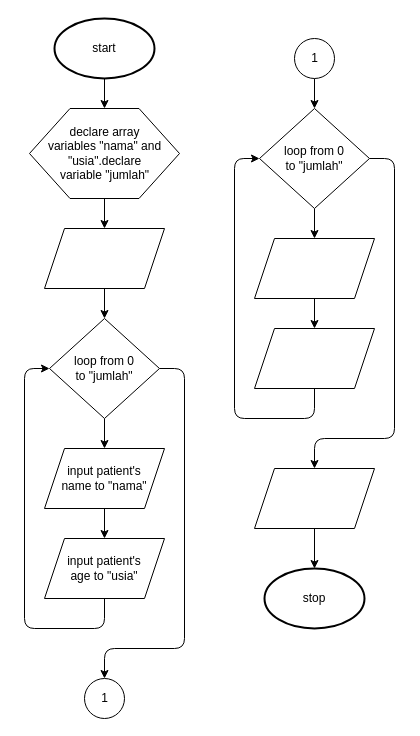
This 420x736 diagram has some shape labels left out. Here are the shapes that lost their labels. From the top down, the centre of each, then its label:
the point at 104,258: input patient count to "jumlah"
the point at 314,268: display "Nama Pasien : {nama[index]}"
the point at 314,358: display "Usia Pasien : {usia[index]}"
the point at 314,498: display "Pasien berjumlah : {jumlah}"
